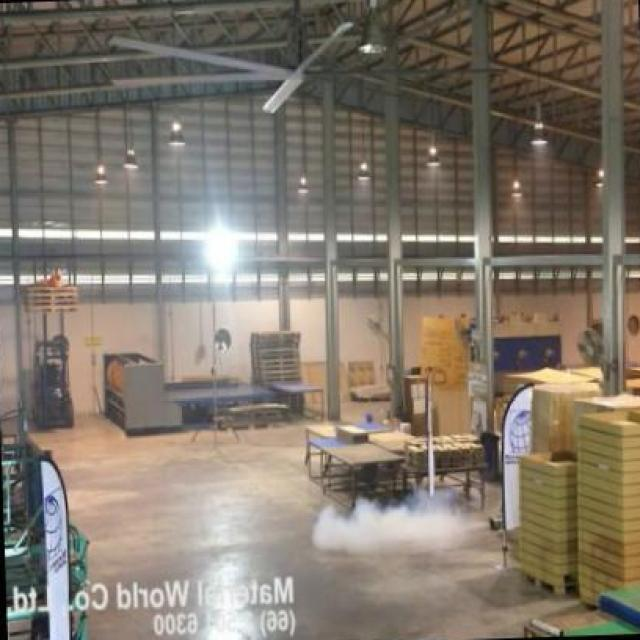fire: (312, 493, 486, 558)
